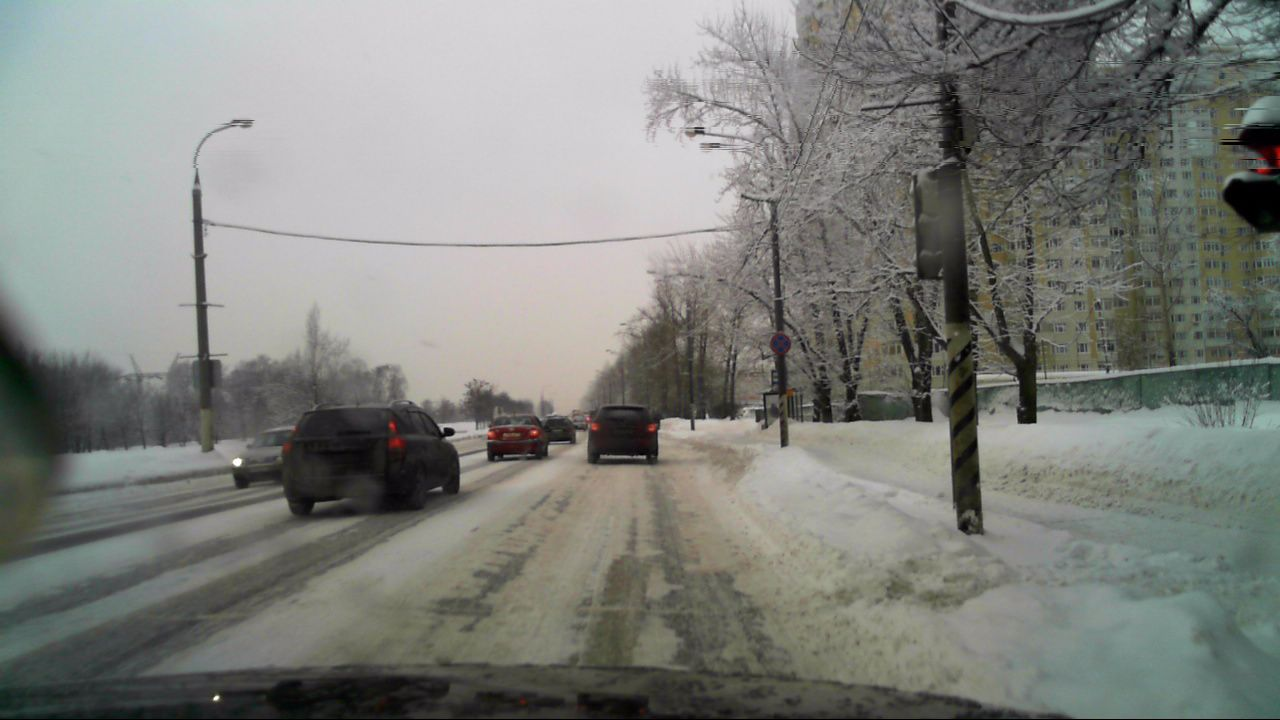No Parking: (767, 332, 793, 359)
